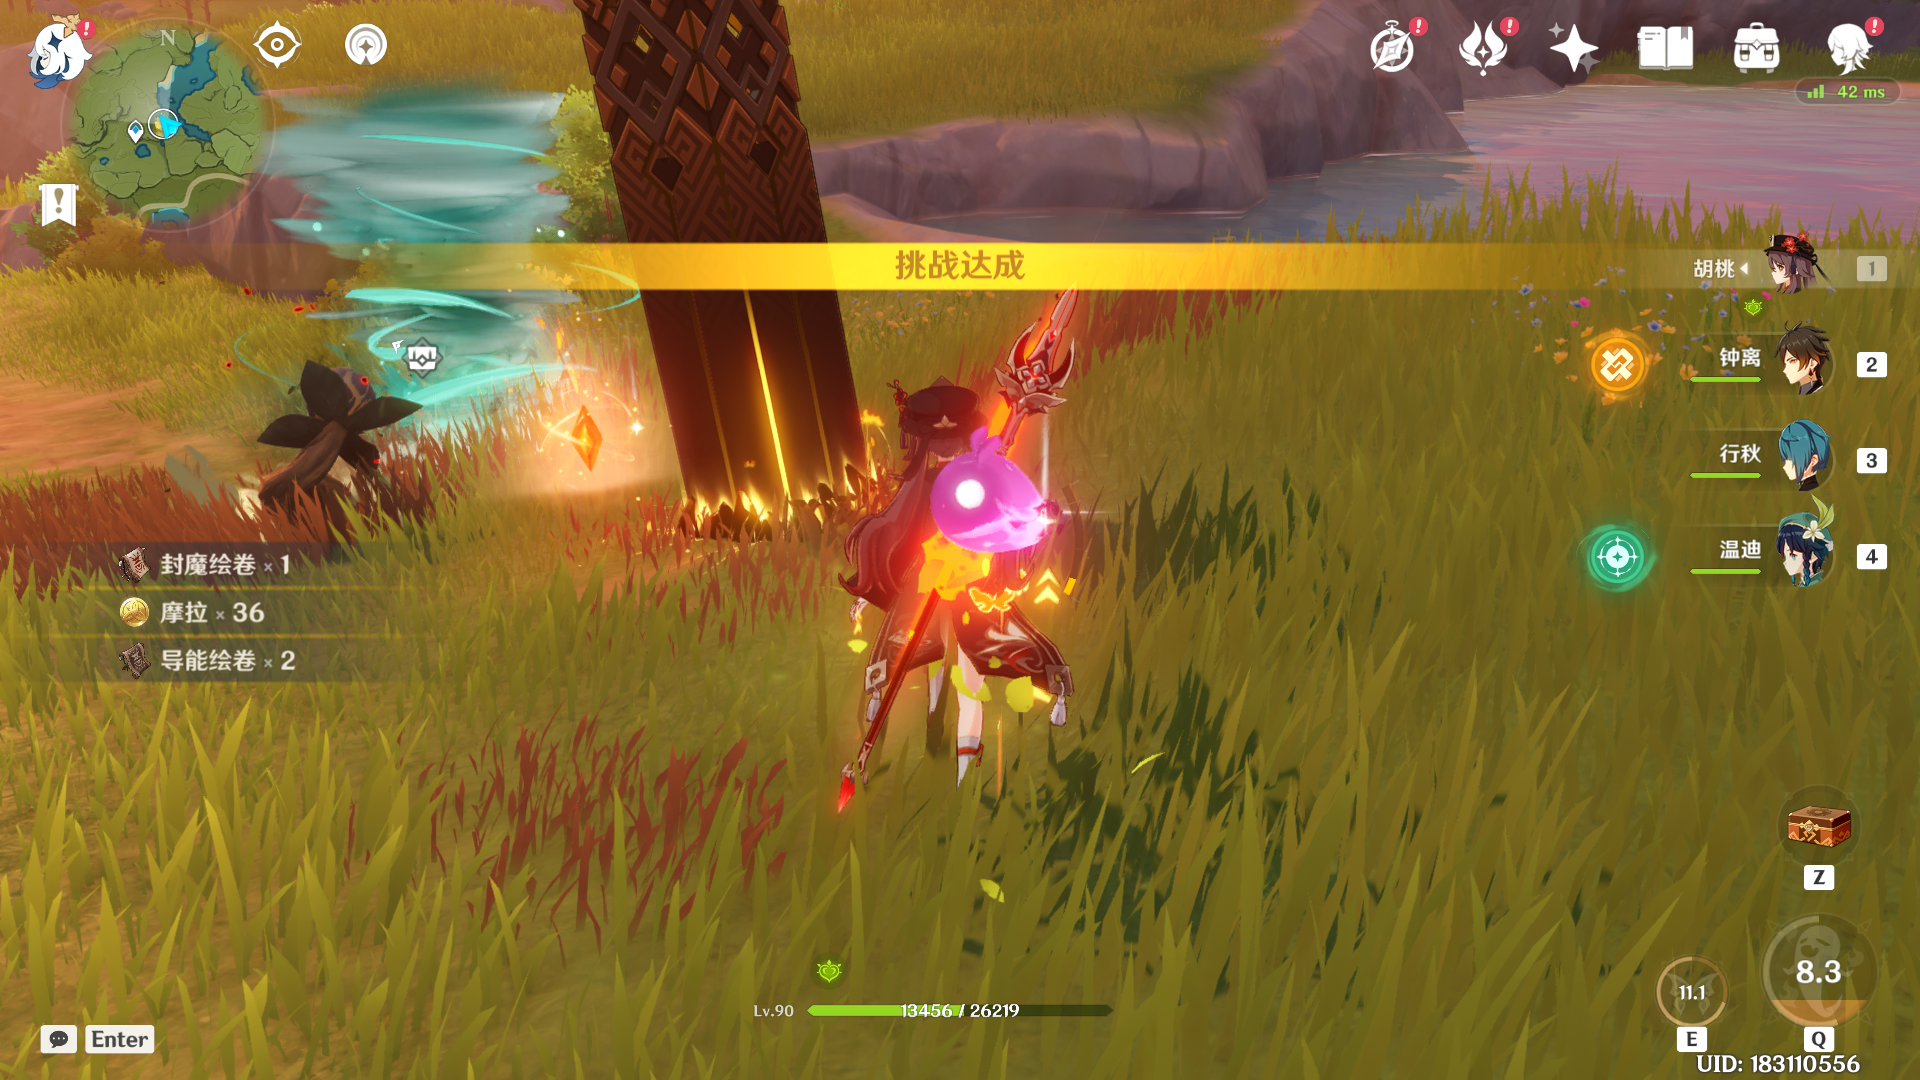character: (779, 319, 1105, 810)
